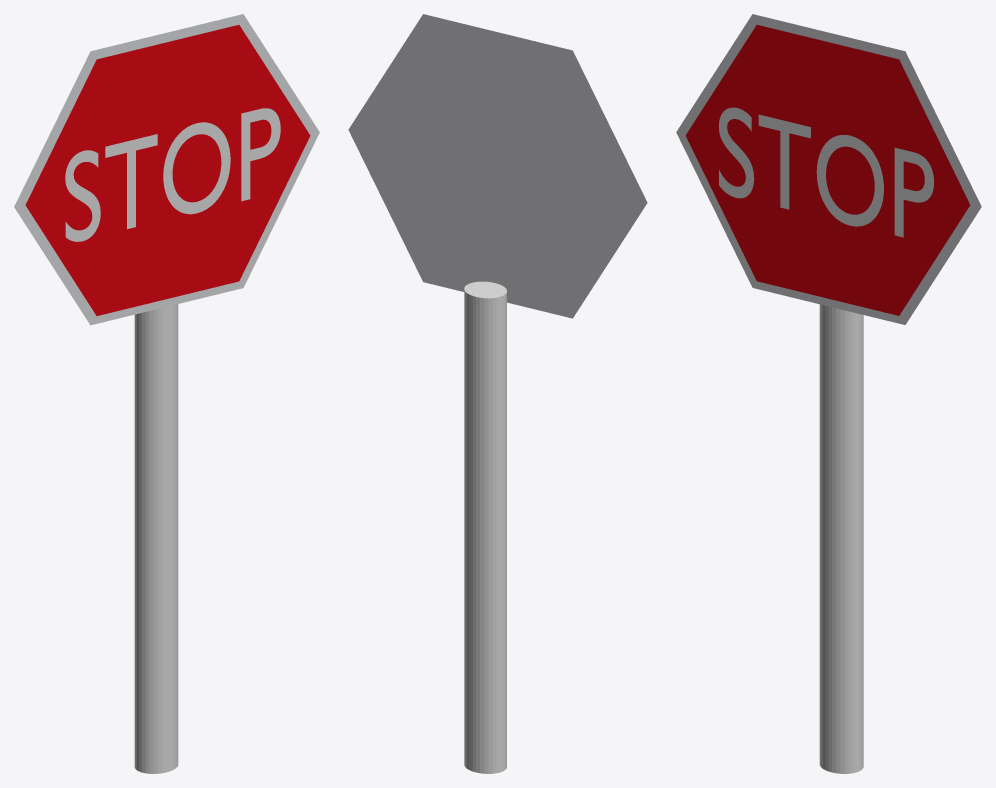
Rendered from StopSign.glb.
3 renders of one model, left to right at view 1: azimuth 30°, elevation 25°; view 2: azimuth 150°, elevation 25°; view 3: azimuth 330°, elevation 25°, orthographic. The views are drawn at different scales.
Visible parts, largest first — view 1: CÃrculo.001, Cilindro, CÃrculo, Texto; view 2: CÃrculo, Cilindro; view 3: CÃrculo.001, Cilindro, CÃrculo, Texto.
Boxes of the visible parts, box(x1,y1,x2,y2) form: CÃrculo.001: box(25, 25, 310, 315); Cilindro: box(134, 304, 178, 773); CÃrculo: box(14, 14, 319, 325); Texto: box(65, 108, 280, 241); CÃrculo: box(348, 14, 647, 318); Cilindro: box(464, 281, 506, 773); CÃrculo.001: box(685, 25, 970, 315); Cilindro: box(819, 304, 863, 773); CÃrculo: box(676, 14, 981, 324); Texto: box(718, 107, 933, 237).
Size of the model in its own units: 3.52 by 8.15 by 0.5086.
